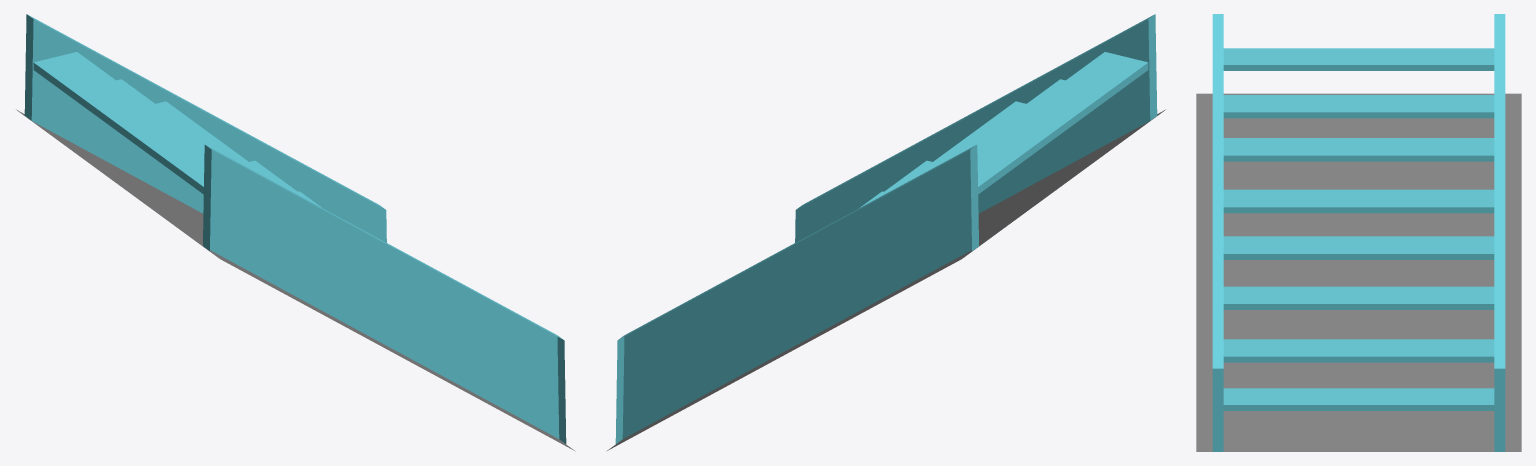
Rendered from Stairs.fbx.
3 views of the same model, side by side, from view 1: azimuth 30°, elevation 25°; view 2: azimuth 150°, elevation 25°; view 3: azimuth 270°, elevation 25° (orthographic). The views are drawn at different scales.
Visible parts, largest first — view 1: Stairs; view 2: Stairs; view 3: Stairs.
Boxes of the visible parts, left/top/right/bottom form: Stairs: left=16, top=14, right=575, bottom=451; Stairs: left=606, top=14, right=1165, bottom=451; Stairs: left=1196, top=14, right=1521, bottom=451.
Size of the model in its own units: 200 by 205 by 200.
